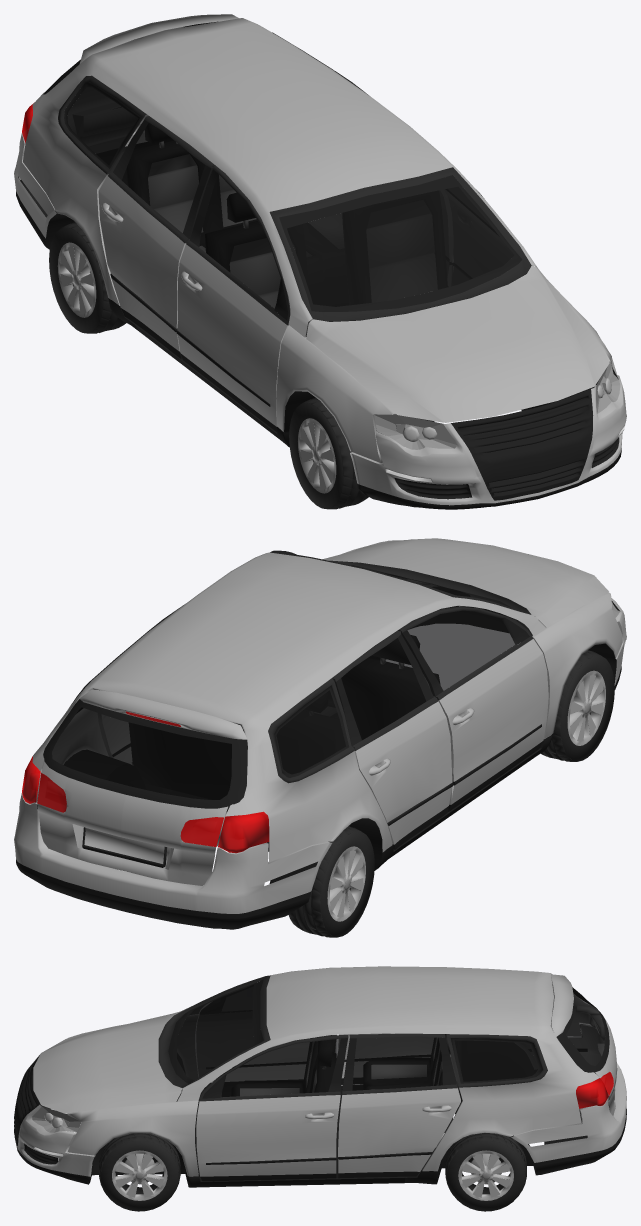
Rendered from generic-usa-eu-station-wagon-c14f27.glb.
3 renders of one model, top to bottom at view 1: azimuth 30°, elevation 25°; view 2: azimuth 150°, elevation 25°; view 3: azimuth 270°, elevation 25°, orthographic. The views are drawn at different scales.
Parts seen in each view (by area): view 1: body, wheel-front-right, wheel-back-right; view 2: body, wheel-back-right, wheel-front-right; view 3: body, wheel-back-left, wheel-front-left.
Boxes of the visible parts, x1,y1,x2,y2 form: body: [14, 14, 626, 509]; wheel-front-right: [289, 398, 368, 509]; wheel-back-right: [49, 222, 126, 333]; body: [14, 538, 626, 929]; wheel-back-right: [288, 826, 374, 937]; wheel-front-right: [541, 650, 614, 761]; body: [14, 966, 626, 1187]; wheel-back-left: [445, 1133, 526, 1211]; wheel-front-left: [99, 1133, 180, 1211].
Bounding box in the file's own units: 1.82 × 1.5 × 4.78.
